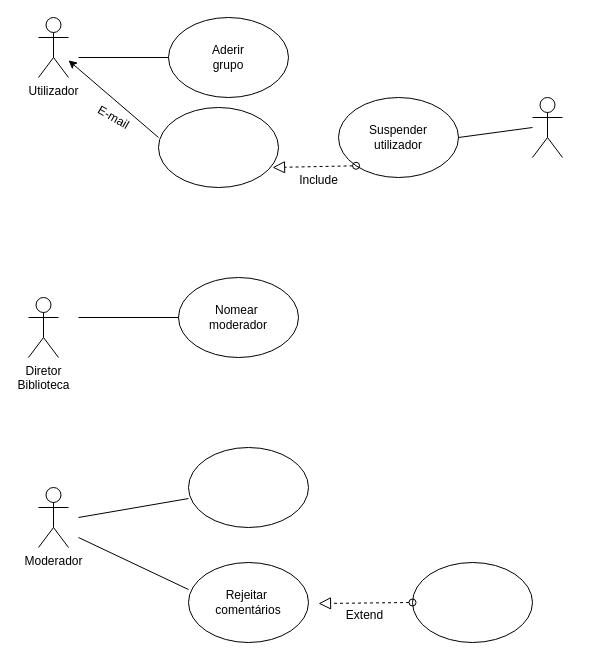
Image size: 607x660. Some labels were removed from this diagram. Here are the shapes that lost their labels. From the top down, the centre of each, then its label:
At point (218, 147): "Enviar informação de suspensão".
At point (547, 127): "Adm do sistema".
At point (248, 487): "Aprovar comentários".
At point (472, 602): "Aconselhar administrador".
